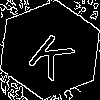K: (25, 25, 84, 82)
